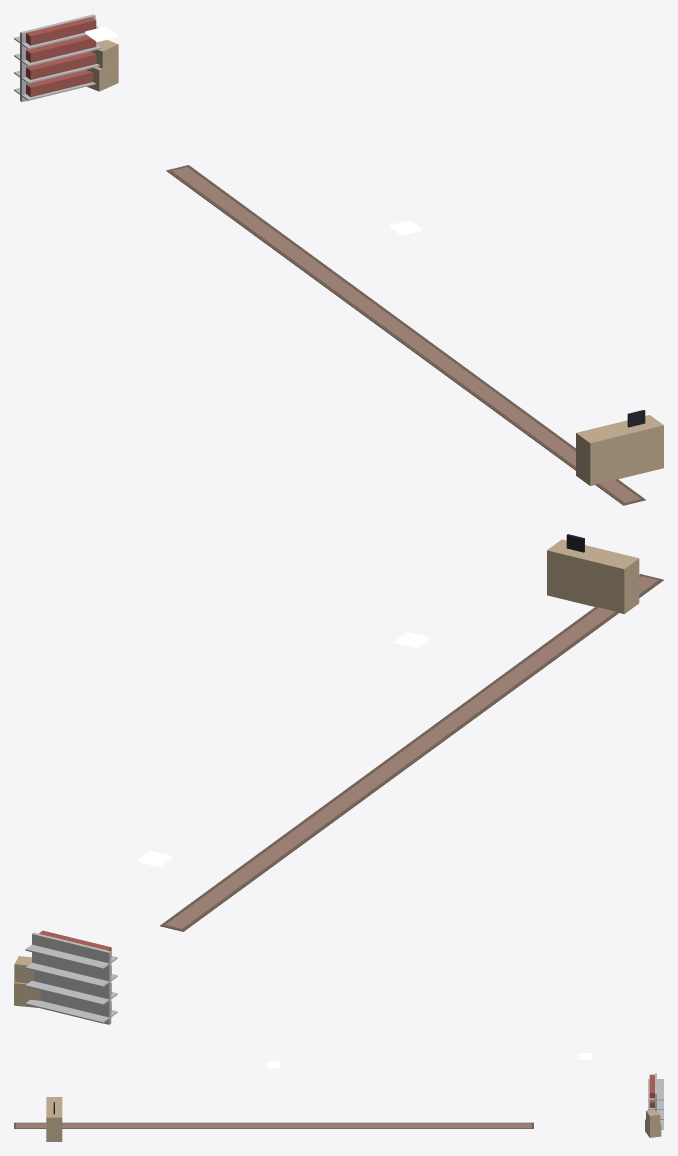
Rendered from fine-s0.glb.
The picture shows the model from 3 angles, top to bottom: view 1: azimuth 30°, elevation 25°; view 2: azimuth 150°, elevation 25°; view 3: azimuth 270°, elevation 25°; orthographic projection. The views are drawn at different scales.
Visible parts, largest first — view 1: soft-s0, shelving.000, shop-counter.000, cardboard-box.000; view 2: soft-s0, shelving.000, shop-counter.000, cardboard-box.000; view 3: soft-s0, shop-counter.000, shelving.000, cardboard-box.000.
Boxes of the visible parts, left/top/right/bottom form: soft-s0: left=166, top=165, right=645, bottom=505; shelving.000: left=14, top=14, right=101, bottom=101; shop-counter.000: left=576, top=410, right=663, bottom=485; cardboard-box.000: left=86, top=40, right=118, bottom=91; soft-s0: left=160, top=574, right=663, bottom=931; shelving.000: left=25, top=930, right=117, bottom=1024; shop-counter.000: left=547, top=534, right=639, bottom=614; cardboard-box.000: left=14, top=956, right=40, bottom=1007; soft-s0: left=14, top=1122, right=533, bottom=1128; shop-counter.000: left=46, top=1097, right=62, bottom=1141; shelving.000: left=648, top=1073, right=663, bottom=1129; cardboard-box.000: left=645, top=1110, right=661, bottom=1137.
Size of the model in its own units: 2.6 by 2.53 by 24.17.
